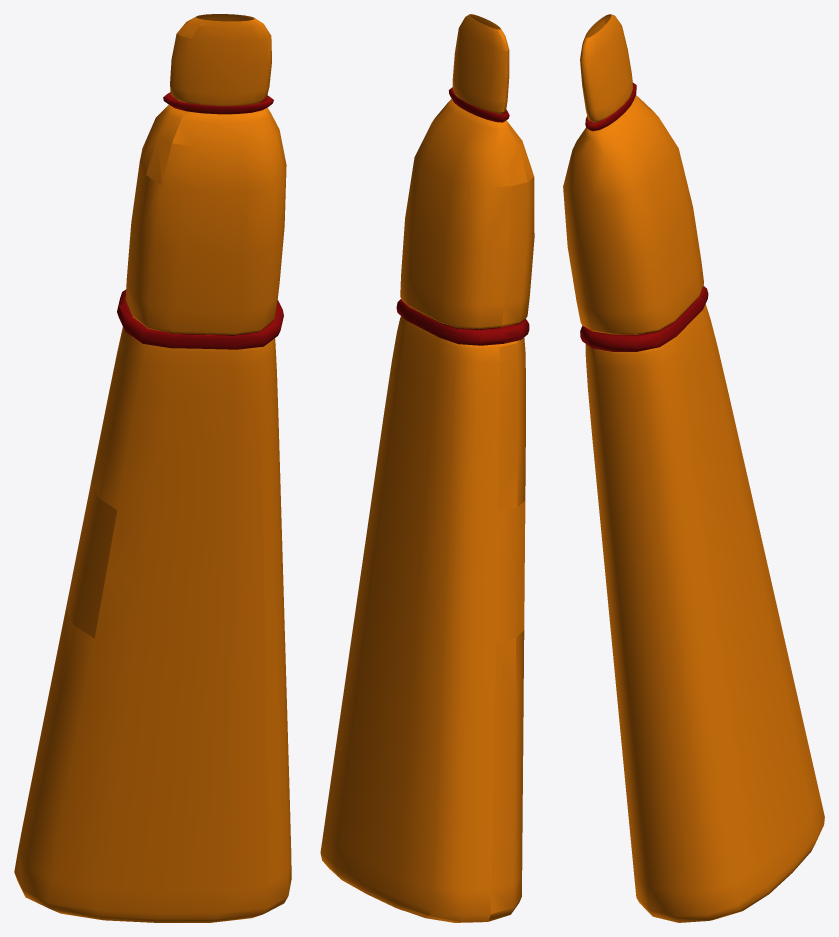
The model's file is Broom.fbx.
The picture shows the model from 3 angles, left to right: view 1: azimuth 30°, elevation 25°; view 2: azimuth 150°, elevation 25°; view 3: azimuth 270°, elevation 25°; orthographic projection. The views are drawn at different scales.
Parts seen in each view (by area): view 1: broom; view 2: broom; view 3: broom.
Part boxes in pixels (box(x1,y1,x2,y2)): broom: box(14, 14, 291, 922); broom: box(320, 14, 534, 922); broom: box(563, 14, 824, 922).
Size of the model in its own units: 138 by 525 by 145.
